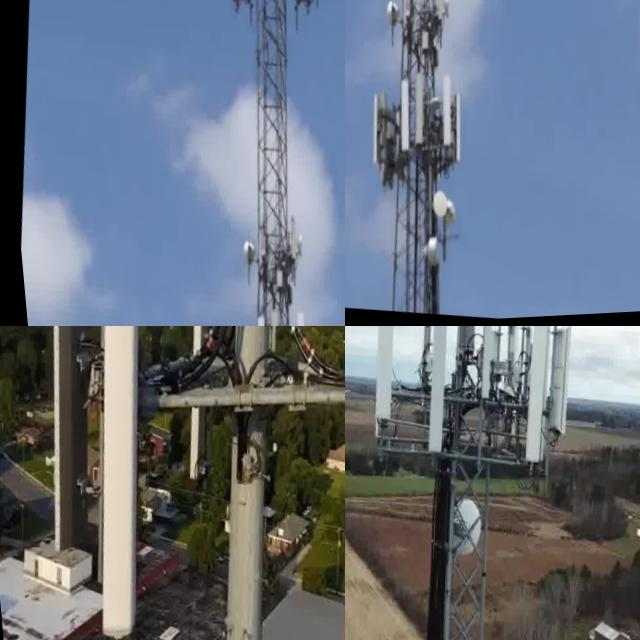GSM Antenna: (85, 326, 129, 640), (35, 326, 91, 564), (503, 326, 565, 475), (406, 326, 463, 460), (530, 326, 582, 449), (358, 326, 401, 427), (432, 497, 479, 568), (489, 326, 529, 402), (383, 82, 411, 158), (425, 74, 451, 154), (399, 72, 425, 152), (356, 91, 382, 171), (468, 326, 496, 397), (439, 95, 461, 166), (244, 290, 280, 326), (269, 301, 307, 326), (231, 303, 267, 326), (426, 0, 443, 26)
Microwave Antenna: (153, 326, 231, 494), (374, 0, 397, 38), (408, 238, 434, 265), (234, 238, 254, 273), (420, 188, 439, 224), (285, 232, 304, 265), (434, 200, 447, 231)
